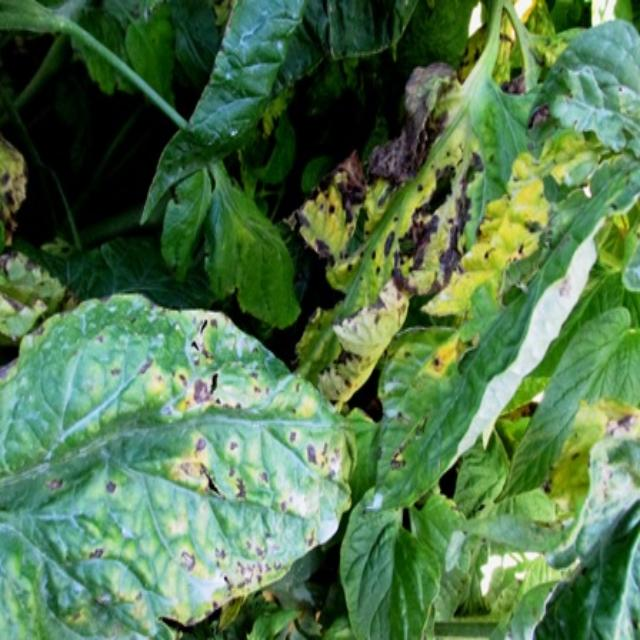Early_blight: (291, 60, 490, 407), (174, 533, 283, 625), (285, 426, 346, 482), (169, 432, 215, 500), (1, 136, 27, 244), (167, 370, 213, 420), (602, 399, 640, 441), (229, 463, 252, 503), (247, 367, 275, 397), (101, 473, 125, 496), (85, 542, 107, 563), (45, 472, 70, 490), (226, 437, 247, 456), (256, 468, 271, 487)
